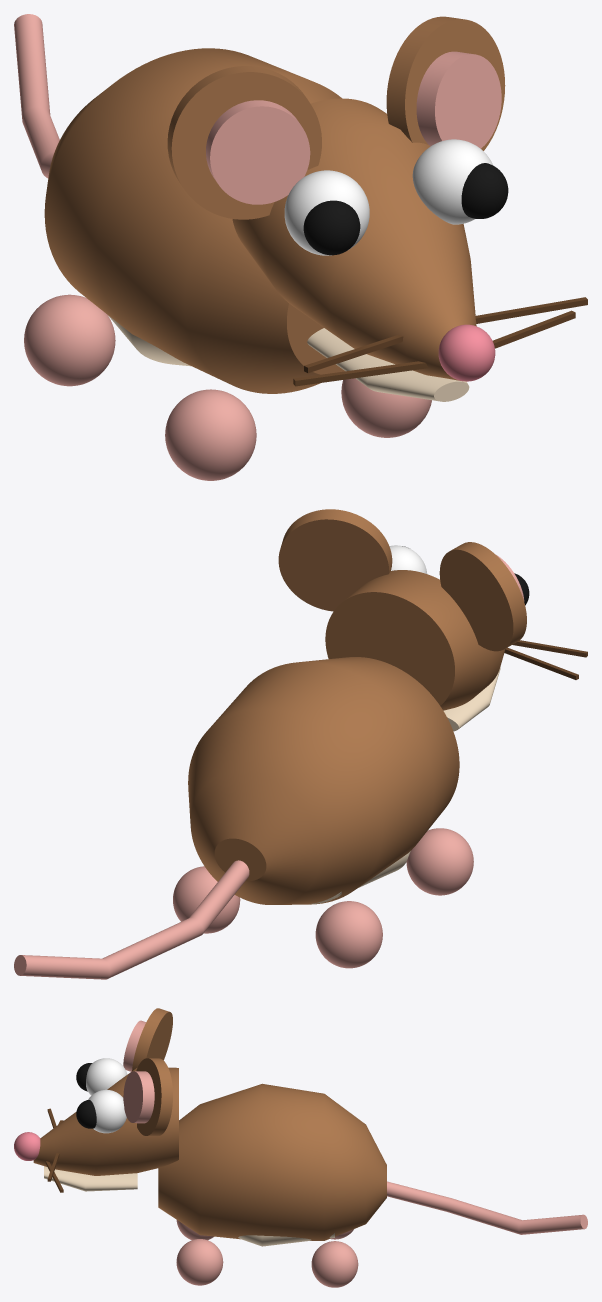
The model's file is mammal.glb.
3 views of the same model, one above another, from view 1: azimuth 30°, elevation 25°; view 2: azimuth 150°, elevation 25°; view 3: azimuth 270°, elevation 25° (orthographic). The views are drawn at different scales.
Visible parts, largest first — view 1: Body, Skull, Ear_L, EarIn_L, EarIn_R, Foot_0, Foot_2, Ear_R, Tail, Eye_R, Jaw, Foot_1 (+9 smaller); view 2: Body, Skull, Ear_R, Ear_L, Tail, Foot_2, Foot_0, Foot_3, Jaw, Eye_R; view 3: Body, Skull, Tail, Ear_R, Foot_3, Foot_1, Ear_L, EarIn_R, Jaw, Eye_R, Eye_L, Nose (+3 smaller).
Part boxes in pixels (x1,y1,x2,y2): Body: (44,48,344,393); Skull: (232,98,476,380); Ear_L: (167,66,321,219); EarIn_L: (206,100,310,204); EarIn_R: (416,51,501,148); Foot_0: (165,389,256,480); Foot_2: (24,294,115,386); Ear_R: (386,16,505,150); Tail: (14,14,59,178); Eye_R: (412,139,493,224); Jaw: (307,328,469,401); Foot_1: (341,378,431,437); Body: (188,657,459,904); Skull: (325,570,505,710); Ear_R: (278,509,392,611); Ear_L: (439,542,526,651); Tail: (14,860,249,979); Foot_2: (315,901,382,968); Foot_0: (406,828,473,895); Foot_3: (173,866,240,933); Jaw: (443,667,500,731); Eye_R: (389,545,427,573); Body: (158,1083,386,1240); Skull: (33,1067,178,1175); Tail: (387,1181,587,1234); Ear_R: (136,1058,172,1136); Foot_3: (311,1241,358,1287); Foot_1: (176,1239,223,1285); Ear_L: (132,1008,172,1070); EarIn_R: (123,1071,154,1123); Jaw: (44,1166,137,1191); Eye_R: (88,1089,126,1133); Eye_L: (86,1058,127,1095); Nose: (14,1132,40,1160).
Size of the model in its own units: 0.1887 by 0.239 by 0.5525.
